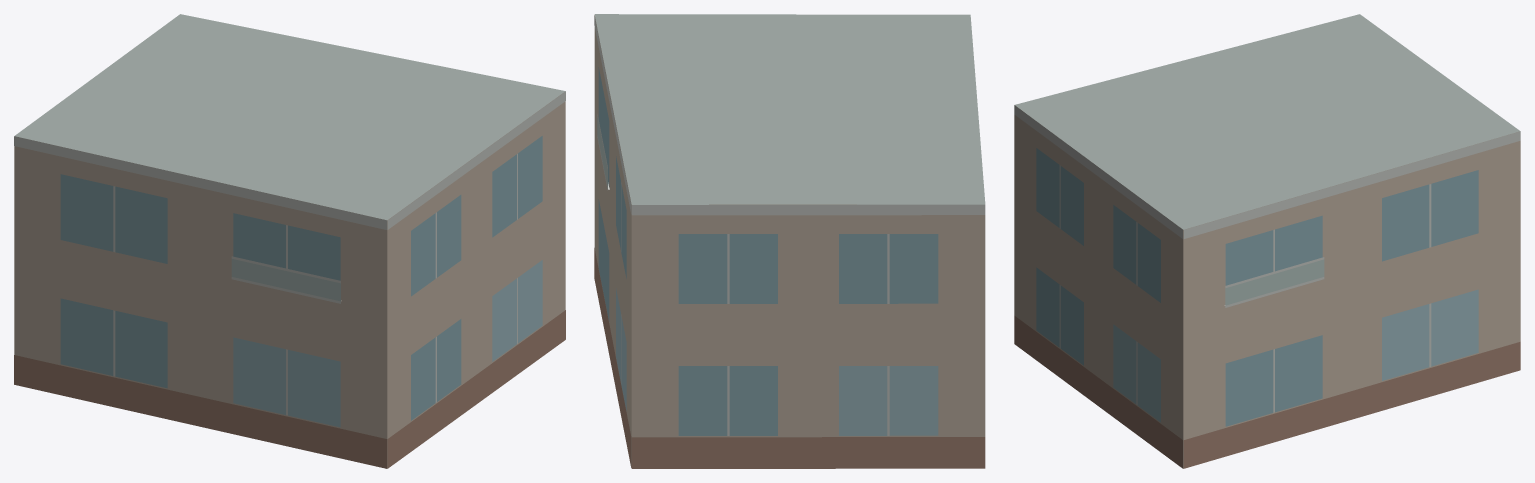
Rendered from survey-upis-32818806.glb.
The picture shows the model from 3 angles, left to right: view 1: azimuth 30°, elevation 25°; view 2: azimuth 150°, elevation 25°; view 3: azimuth 270°, elevation 25°; orthographic projection. The views are drawn at different scales.
Parts seen in each view (by area): view 1: survey-upis-32818806.tmp; view 2: survey-upis-32818806.tmp; view 3: survey-upis-32818806.tmp.
Part boxes in pixels (box(x1,y1,x2,y2)): survey-upis-32818806.tmp: box(14, 14, 565, 468); survey-upis-32818806.tmp: box(594, 14, 985, 468); survey-upis-32818806.tmp: box(1014, 14, 1520, 468).
Size of the model in its own units: 11.82 by 6.1 by 11.72.
